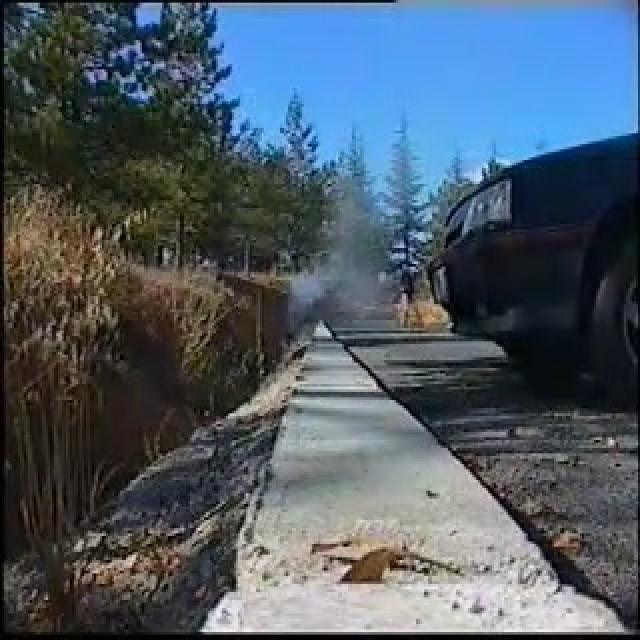smoke: (284, 244, 364, 329)
